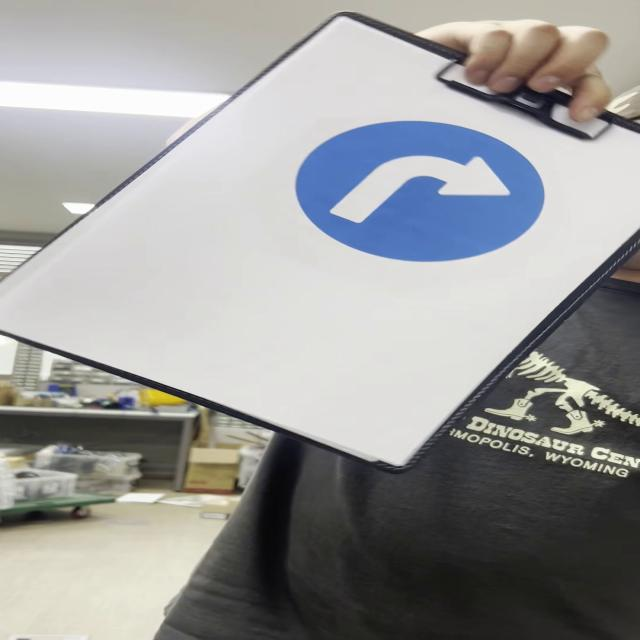right: (299, 123, 552, 264)
